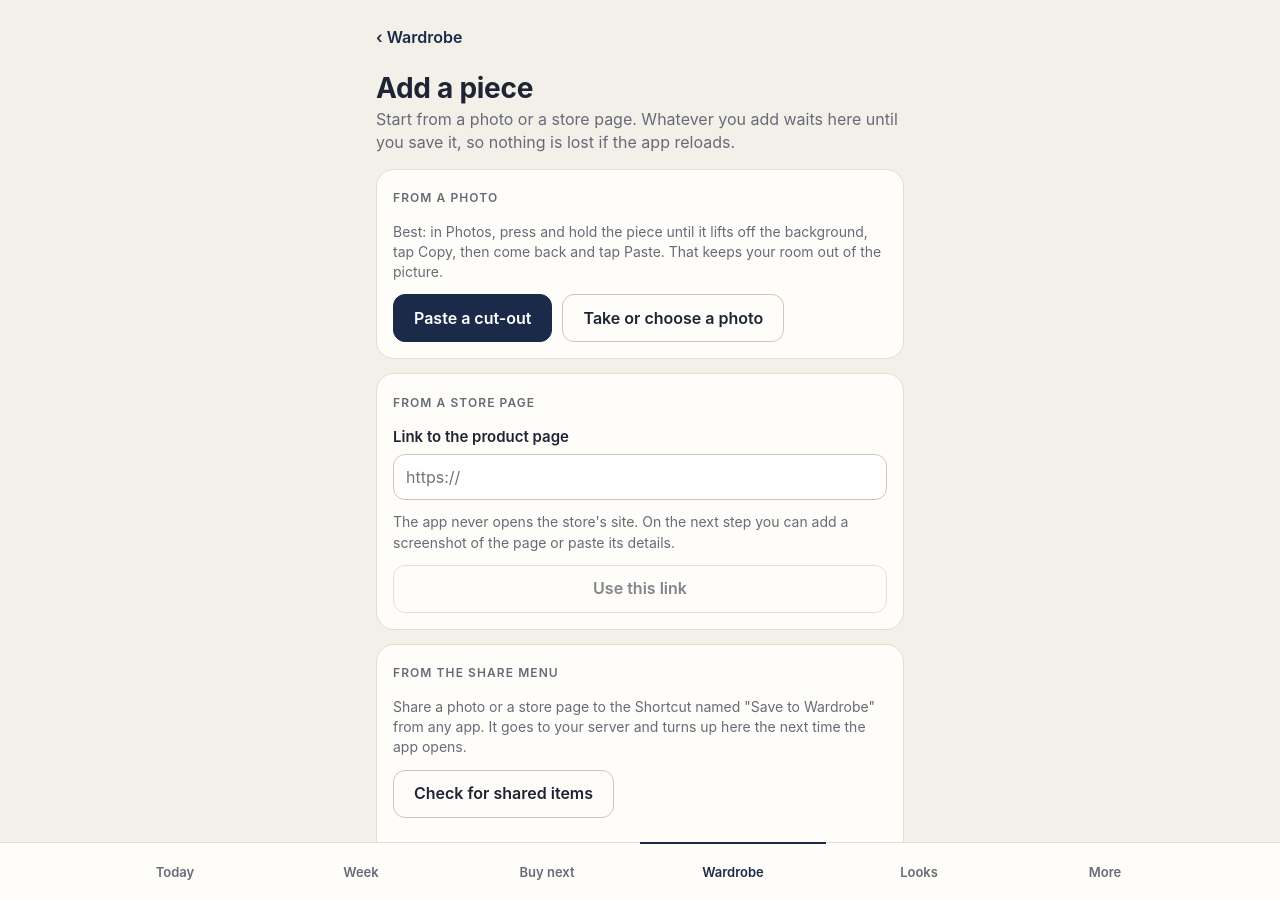
Scenario: the start of adding a piece › says so when there is no picture to paste
Click the button "Paste a cut-out" at [473, 318], box [393,294,552,342]
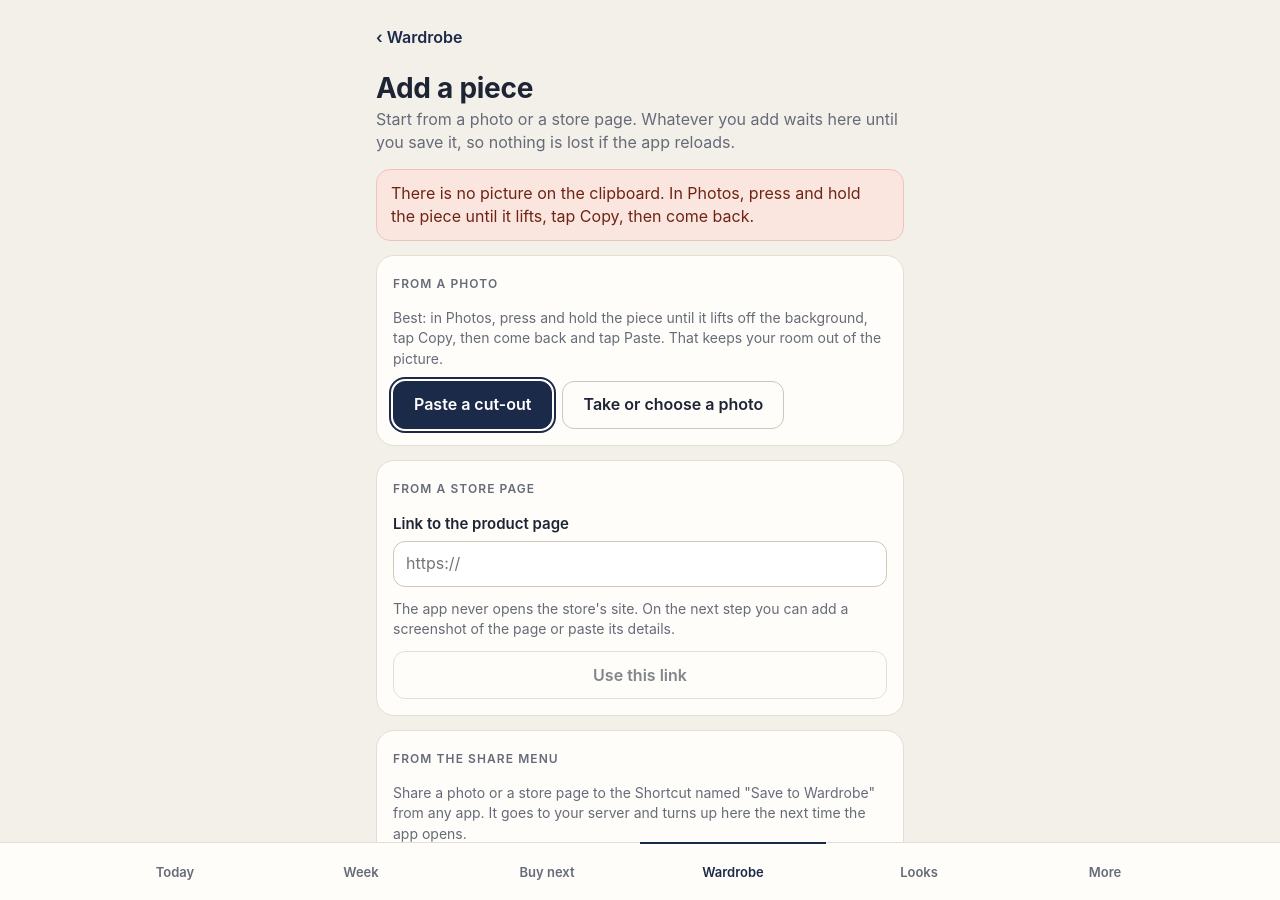
Check: the message shows "There is no picture on the clipboard", box [391,183,861,226]
